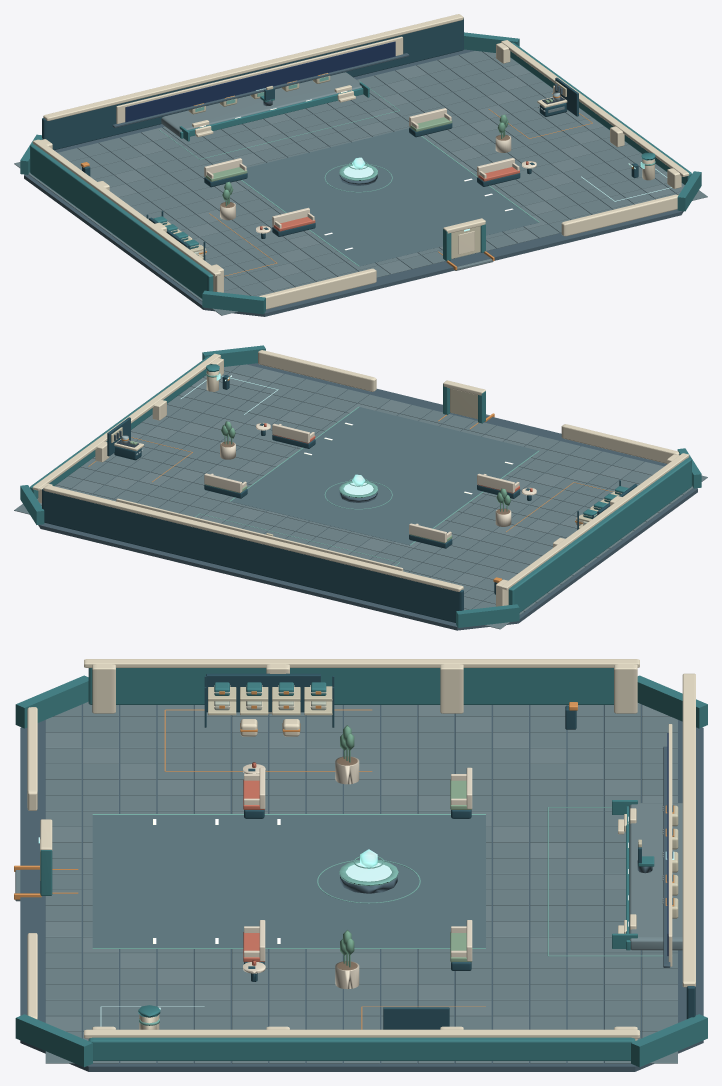
The model's file is ship_hub.glb.
The picture shows the model from 3 angles, top to bottom: view 1: azimuth 30°, elevation 25°; view 2: azimuth 150°, elevation 25°; view 3: azimuth 270°, elevation 25°; orthographic projection. The views are drawn at different scales.
Visible parts, largest first — view 1: Decor/central_deck, Deck/structural_floor, Hull/left_wall, Hull/forward_wall, Bridge/panorama_glass, Hull/forward_top_beam, Bridge/platform, Hull/near_right_parapet, Hull/near_left_parapet, Hull/upper_rail_-6.63, Hull/upper_rail_6.63, Bridge/panorama_frame (+6 smaller); view 2: Decor/central_deck, Hull/forward_wall, Deck/structural_floor, Hull/left_wall, Hull/forward_top_beam, Hull/near_right_parapet, Hull/near_left_parapet, Hull/upper_rail_-6.63, Hull/upper_rail_6.63, Hull/right_cutaway_wall, Bridge/panorama_frame, Hull/corner_-1_-1 (+4 smaller); view 3: Decor/central_deck, Deck/structural_floor, Hull/left_wall, Hull/right_cutaway_wall, Bridge/platform, Hull/upper_rail_6.63, Hull/upper_rail_-6.63, Hull/forward_top_beam, Hull/corner_1_1, Hull/corner_1_-1, Hull/corner_-1_1, Cargo/back_panel (+10 smaller).
Part boxes in pixels (box(x1,y1,x2,y2)): Decor/central_deck: box(242, 128, 538, 266); Deck/structural_floor: box(24, 49, 683, 316); Hull/left_wall: box(30, 144, 213, 298); Hull/forward_wall: box(42, 18, 463, 150); Bridge/panorama_glass: box(125, 41, 395, 122); Hull/forward_top_beam: box(43, 14, 463, 120); Bridge/platform: box(161, 72, 361, 136); Hull/near_right_parapet: box(561, 194, 678, 236); Hull/near_left_parapet: box(259, 268, 376, 309); Hull/upper_rail_-6.63: box(32, 139, 220, 276); Hull/upper_rail_6.63: box(501, 40, 689, 176); Bridge/panorama_frame: box(116, 36, 403, 123); Decor/central_deck: box(231, 407, 538, 545); Hull/forward_wall: box(42, 489, 463, 622); Deck/structural_floor: box(38, 363, 697, 630); Hull/left_wall: box(508, 458, 691, 612); Hull/forward_top_beam: box(43, 485, 463, 591); Hull/near_right_parapet: box(258, 350, 376, 391); Hull/near_left_parapet: box(561, 424, 679, 463); Hull/upper_rail_-6.63: box(501, 453, 689, 589); Hull/upper_rail_6.63: box(32, 353, 220, 490); Hull/right_cutaway_wall: box(30, 356, 210, 498); Bridge/panorama_frame: box(116, 498, 403, 571); Hull/corner_-1_-1: box(456, 604, 519, 627); Decor/central_deck: box(92, 815, 485, 947); Deck/structural_floor: box(20, 704, 703, 1071); Hull/left_wall: box(88, 668, 613, 704); Hull/right_cutaway_wall: box(88, 1037, 635, 1060); Bridge/platform: box(629, 803, 682, 950); Hull/upper_rail_6.63: box(84, 1029, 639, 1038); Hull/upper_rail_-6.63: box(84, 659, 639, 667); Hull/forward_top_beam: box(682, 673, 695, 987); Hull/corner_1_1: box(15, 1014, 92, 1067); Hull/corner_1_-1: box(631, 1014, 707, 1067); Hull/corner_-1_1: box(15, 675, 88, 728); Cargo/back_panel: box(206, 673, 320, 712).
Bounding box in the file's own units: 42.42 × 3.21 × 33.51.
